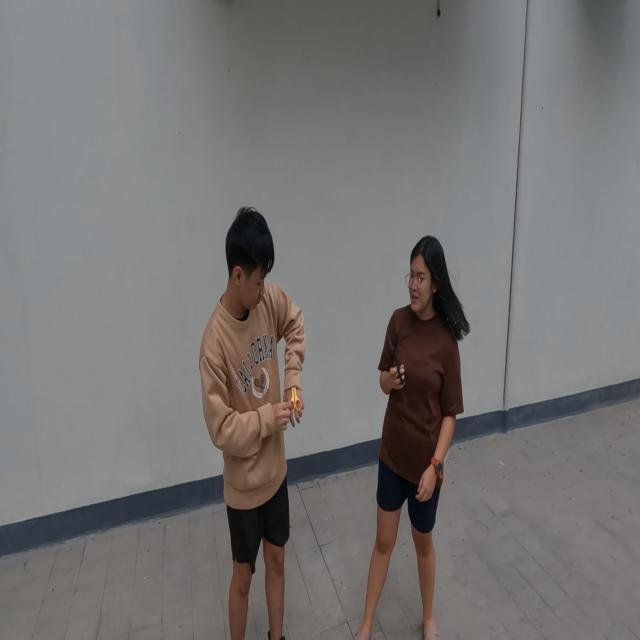scissor: (386, 326, 405, 386), (289, 386, 301, 412)
